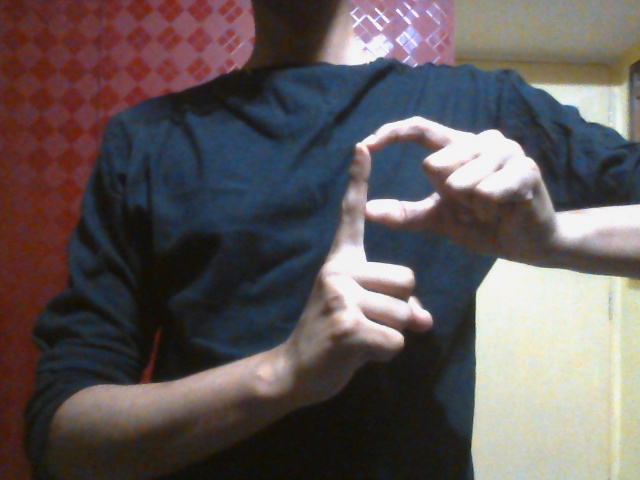P: (294, 115, 474, 401)
